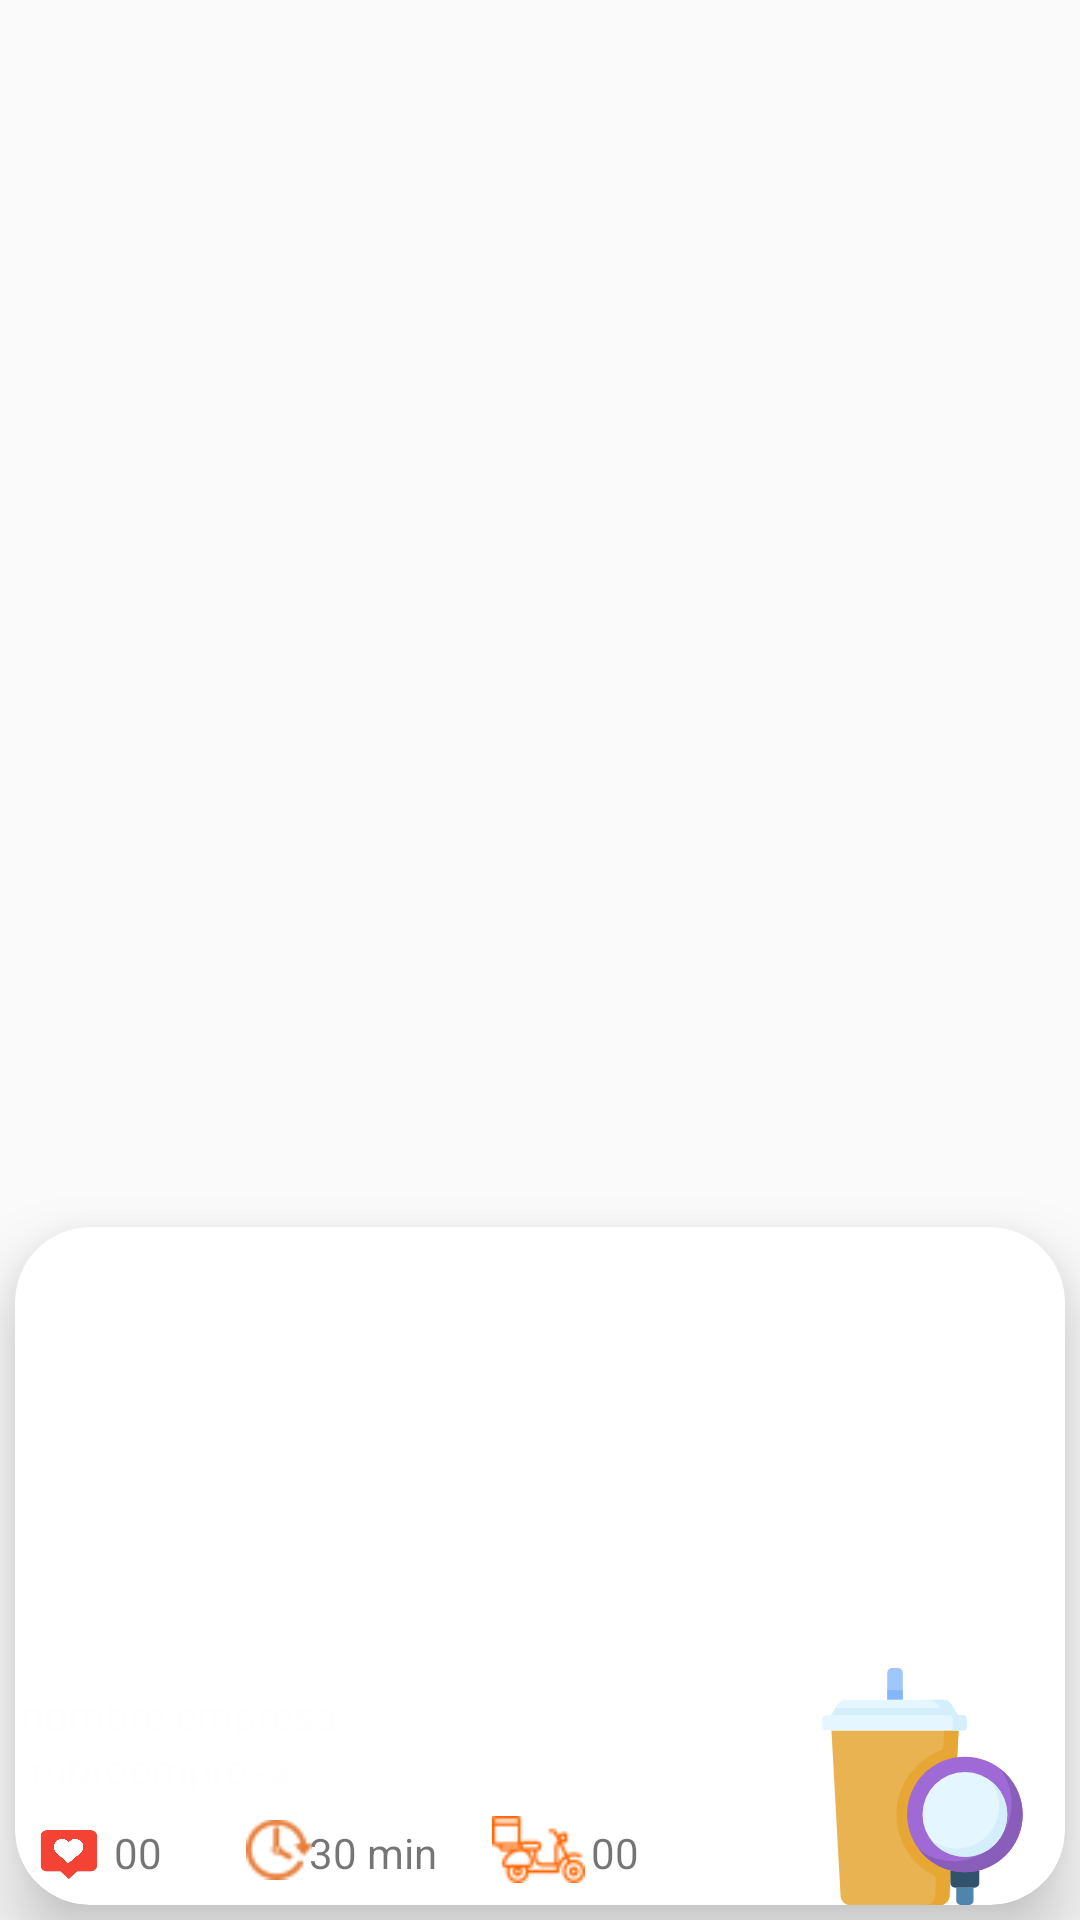

Screen size 1080px×1920px. Icon name, then its box in pixels as BBox(x1, y1, x2, y2):
corazon: BBox(41, 1830, 130, 1879)
moto: BBox(492, 1816, 585, 1883)
reloj: BBox(246, 1820, 312, 1880)
